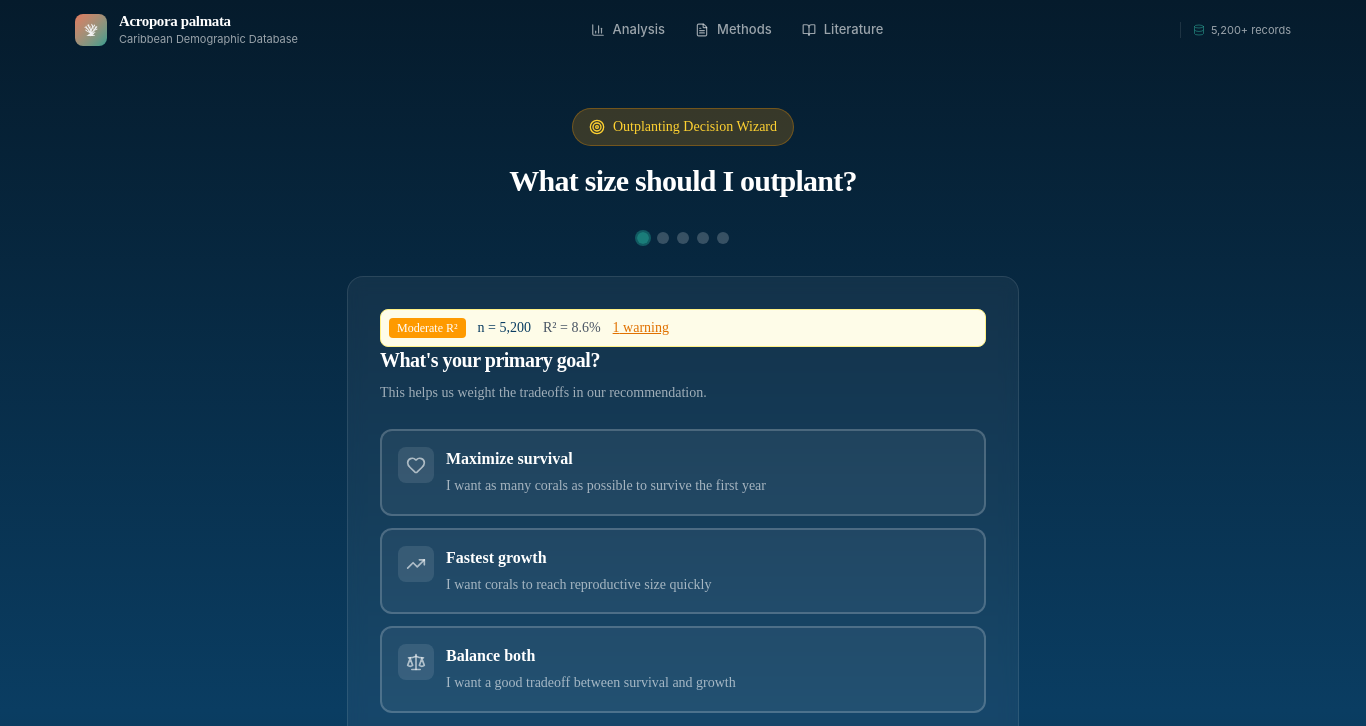
Test: OutplantingWizard › navigation › advances to step 1 when goal is selected and continue clicked
Expected: the heading "Maximize survival" is shown, left=446, top=450, right=573, bottom=467
// Select goal
Click the button "Maximize survival". click: (416, 465)
box: left=380, top=429, right=986, bottom=516
(page scrolled)
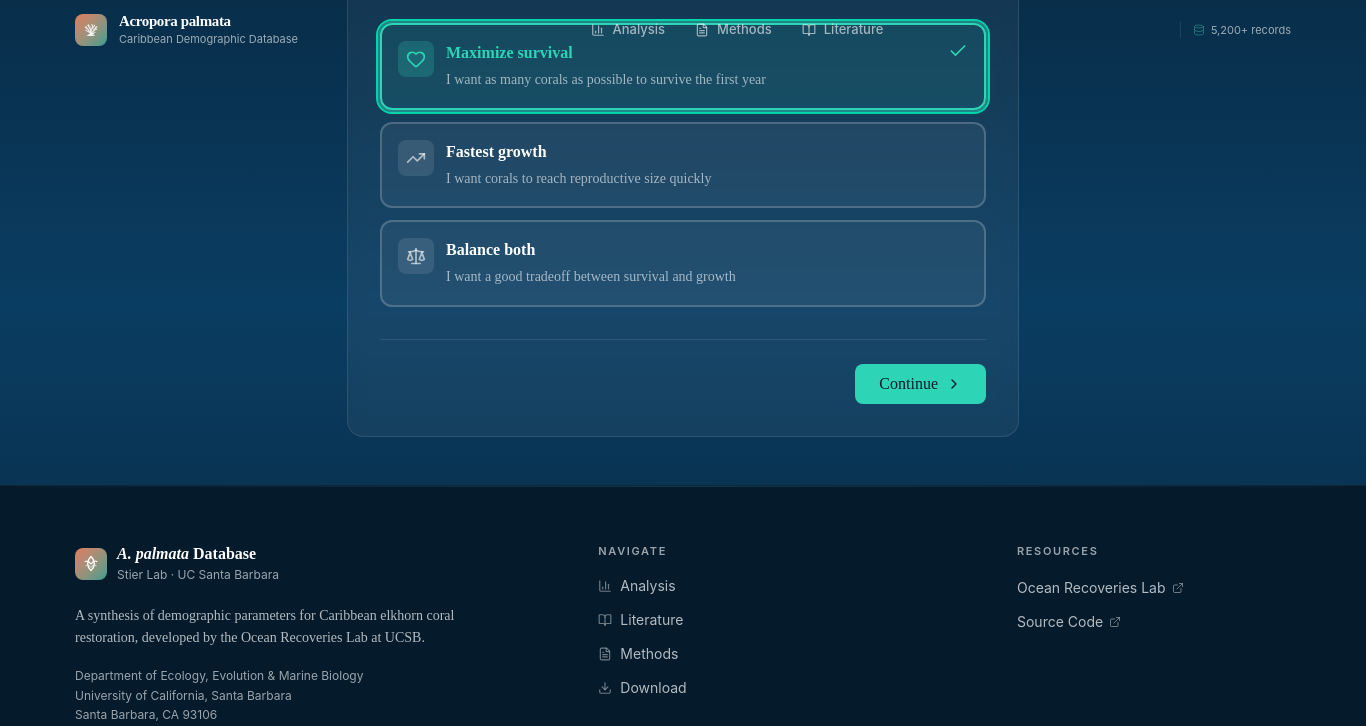
// Click continue
Click the button "Continue". click: (921, 384)
box: left=855, top=364, right=986, bottom=404
(page scrolled)
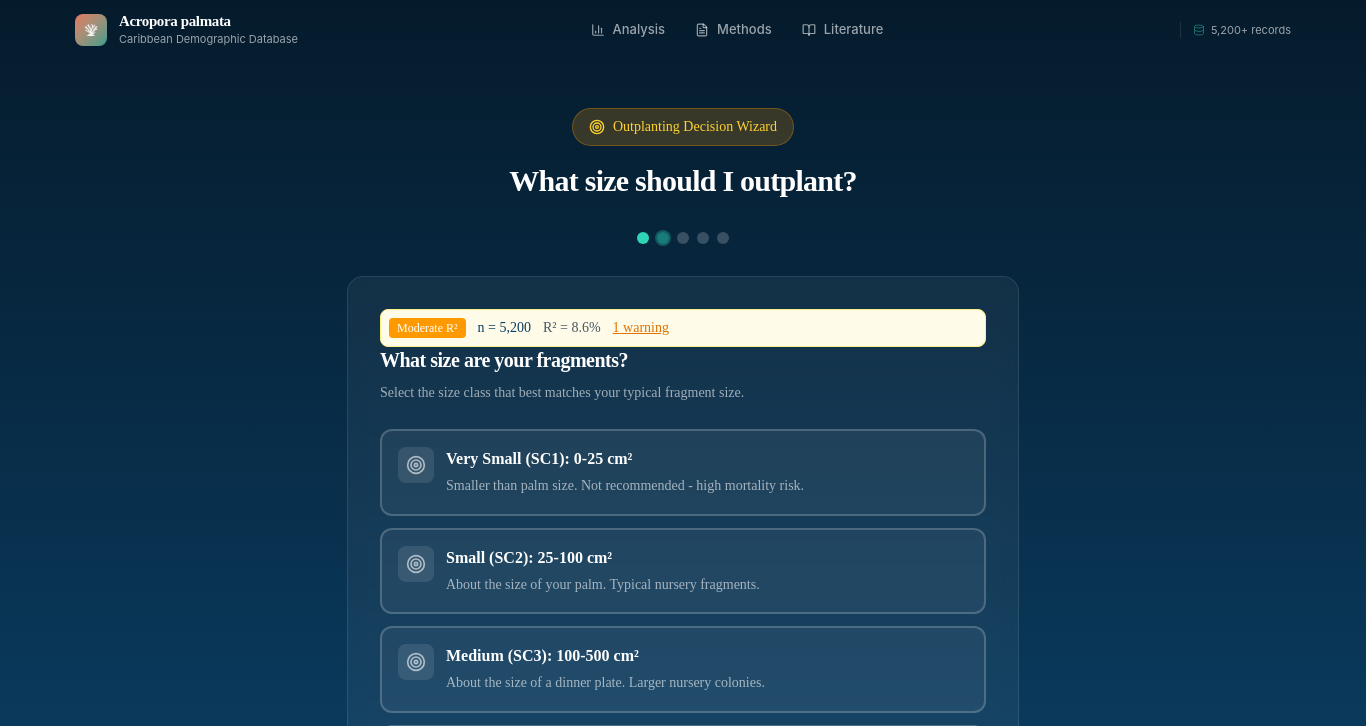
Expected: the heading "What size are your fragments?" is shown, left=380, top=348, right=628, bottom=370
